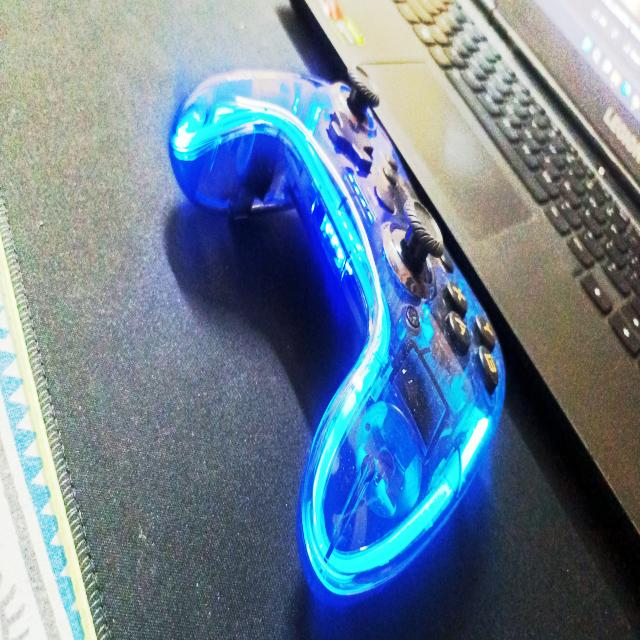gamepad: (167, 66, 507, 601)
